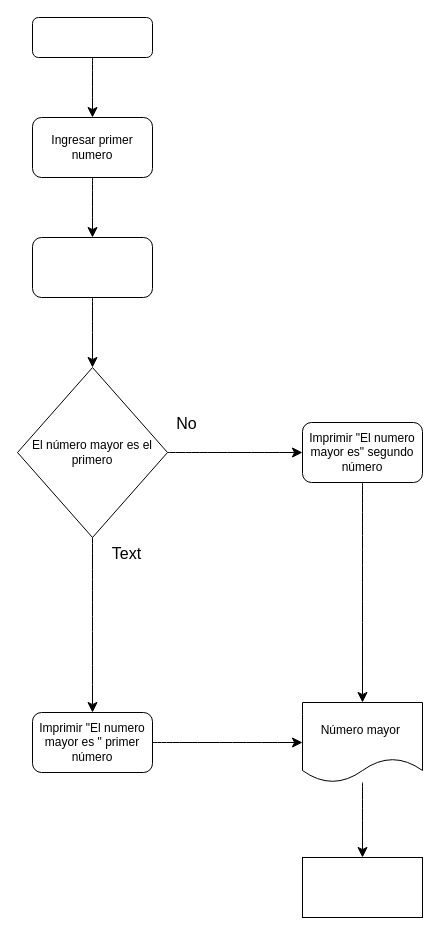
Image size: 440x935. Some labels were removed from this diagram. The centre of each missing label's shape, as x and y in pixels:
Fin: pixel 362 887
Ingresar segundo número: pixel 92 267
Inicio: pixel 92 37
